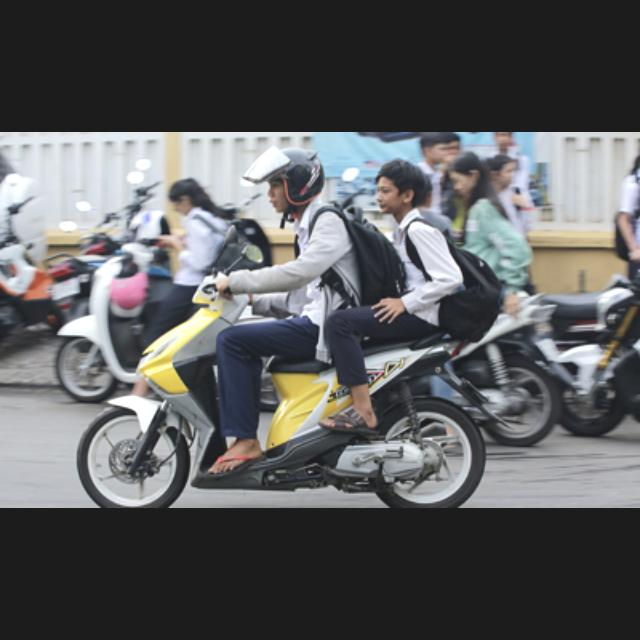With Helmet: (242, 140, 328, 218)
Without Helmet: (360, 149, 436, 215)
